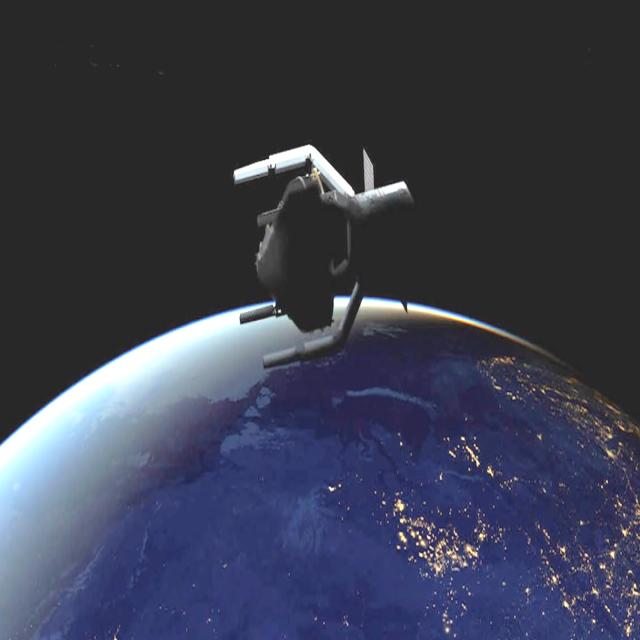medium_debris: (222, 127, 426, 399)
